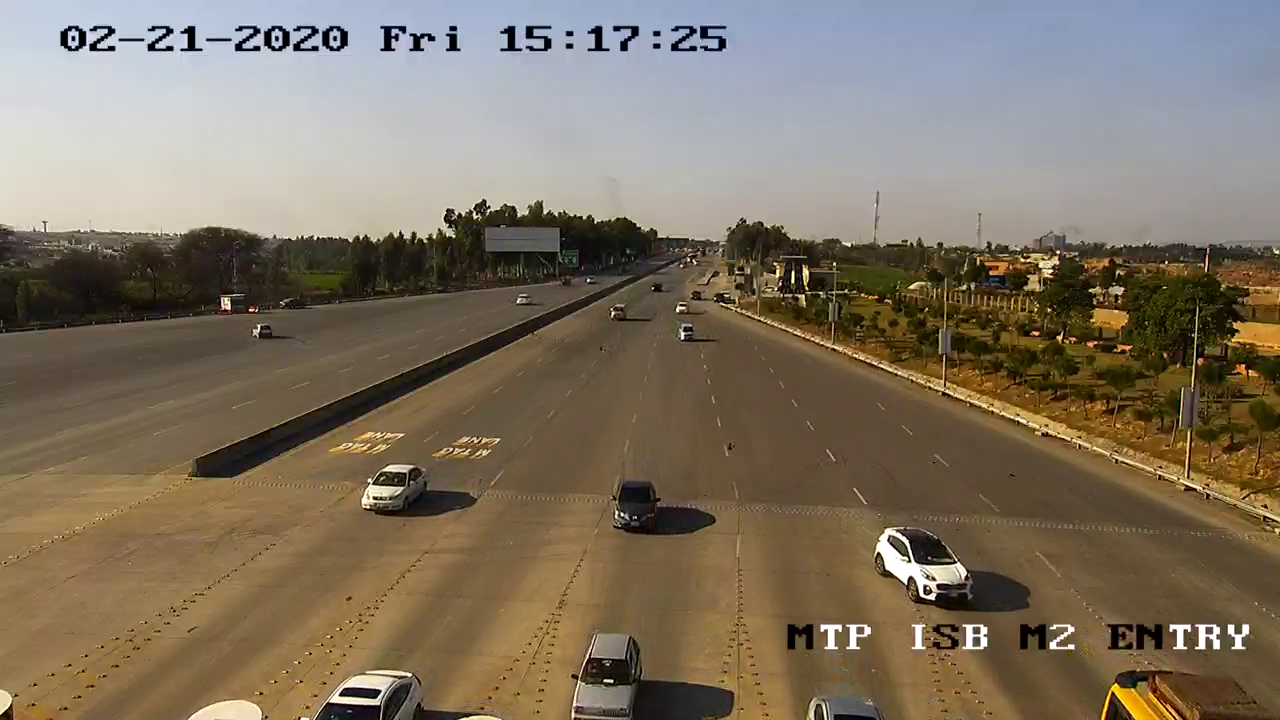f1: (869, 516, 979, 618), (570, 624, 653, 720), (359, 451, 434, 521), (601, 472, 668, 539)
